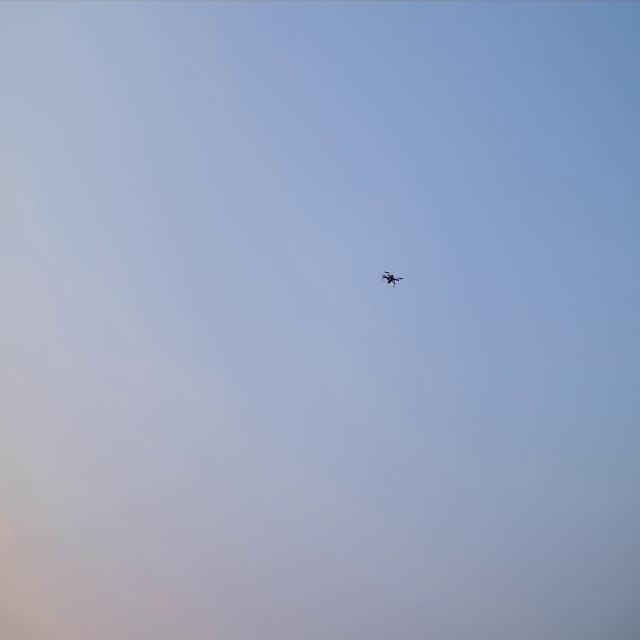UAV: (382, 271, 402, 287)
